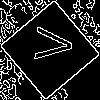V: (25, 25, 74, 63)
